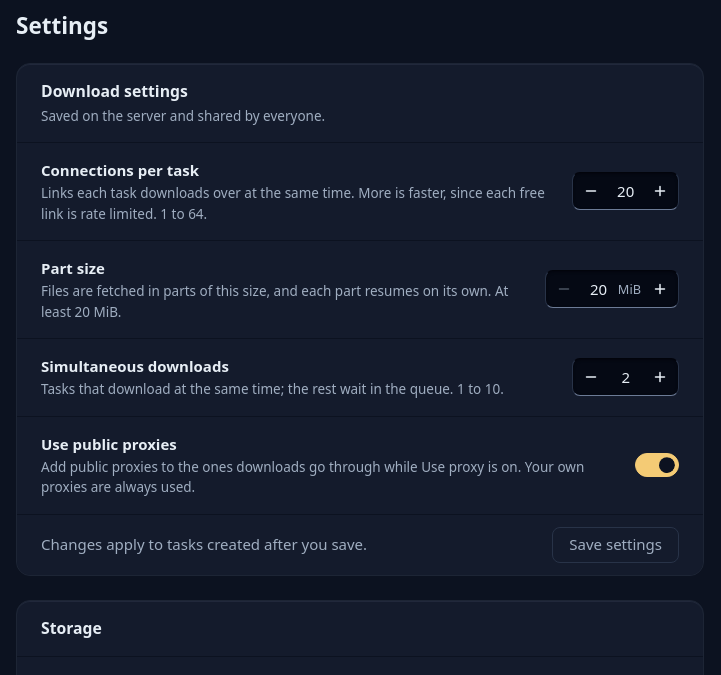
Test: Settings › saves only the changed settings, with the part size in bytes
Click the button named "Increase: Part size" at (660, 289), box top-left (645, 274), bottom-right (675, 304)
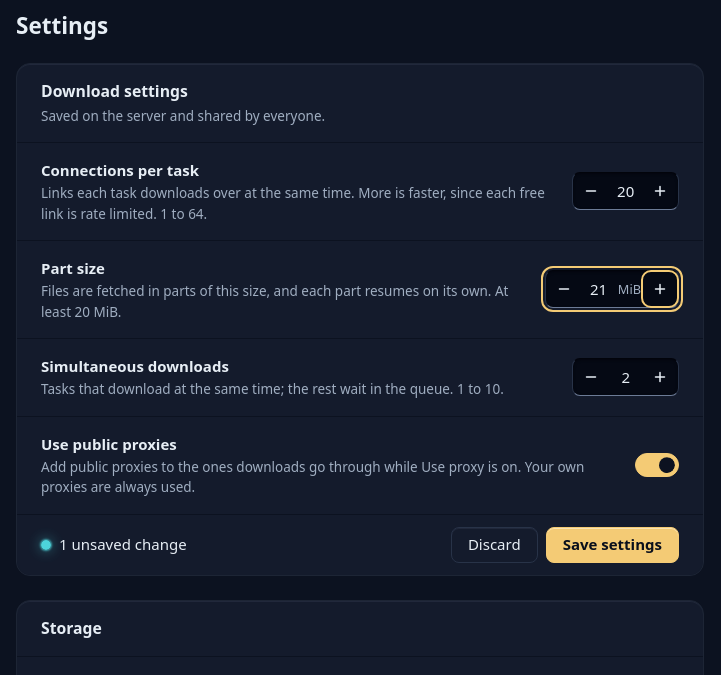
Click the switch named "Use public proxies" at (657, 465), box top-left (635, 453), bottom-right (679, 477)
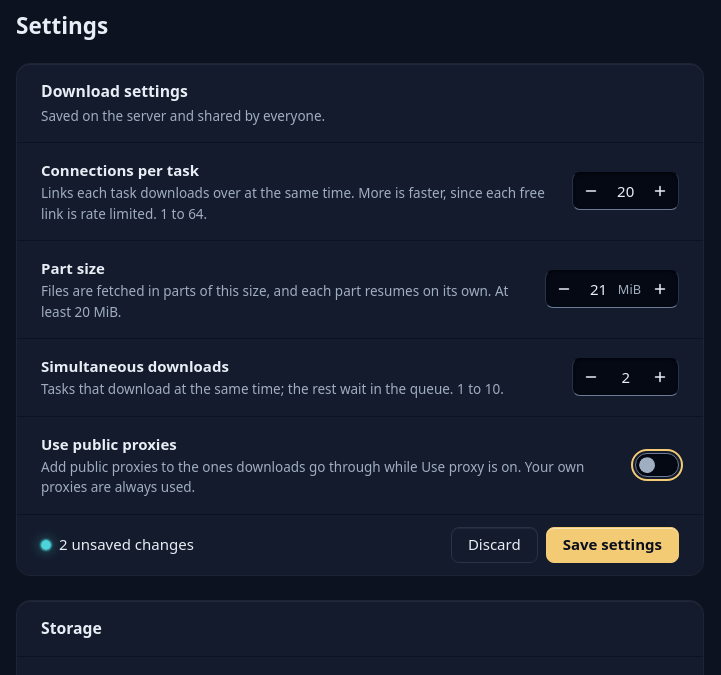
Click the button "Save settings" at (612, 545), box top-left (546, 527), bottom-right (679, 563)
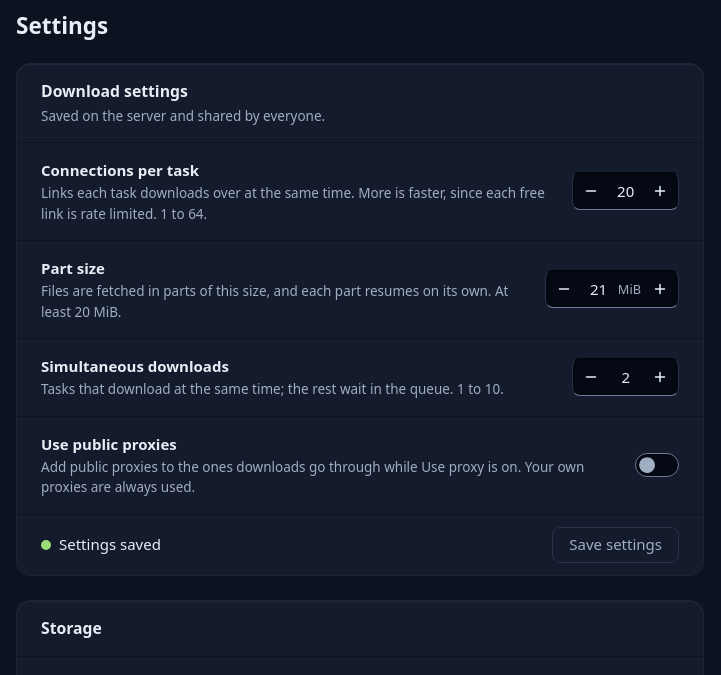
Check: the text "Settings saved" is shown, box top-left (41, 533), bottom-right (161, 556)
Check: the button "Save settings" is disabled, box top-left (552, 527), bottom-right (679, 563)
